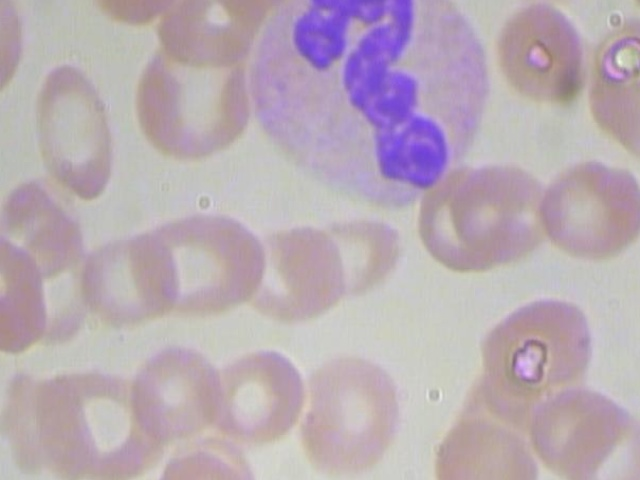RBC: (467, 284, 594, 418), (153, 193, 270, 322), (286, 352, 401, 478), (29, 55, 123, 208), (535, 143, 640, 270), (445, 140, 546, 269), (243, 203, 347, 323), (305, 212, 412, 326), (124, 335, 231, 449), (426, 398, 553, 480), (209, 337, 304, 442), (0, 232, 59, 357), (150, 446, 257, 480)
WBC: (241, 0, 496, 214)
